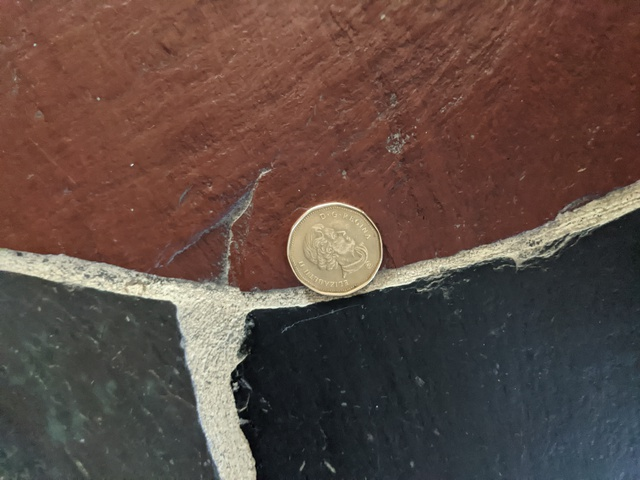loonie: (274, 196, 393, 308)
